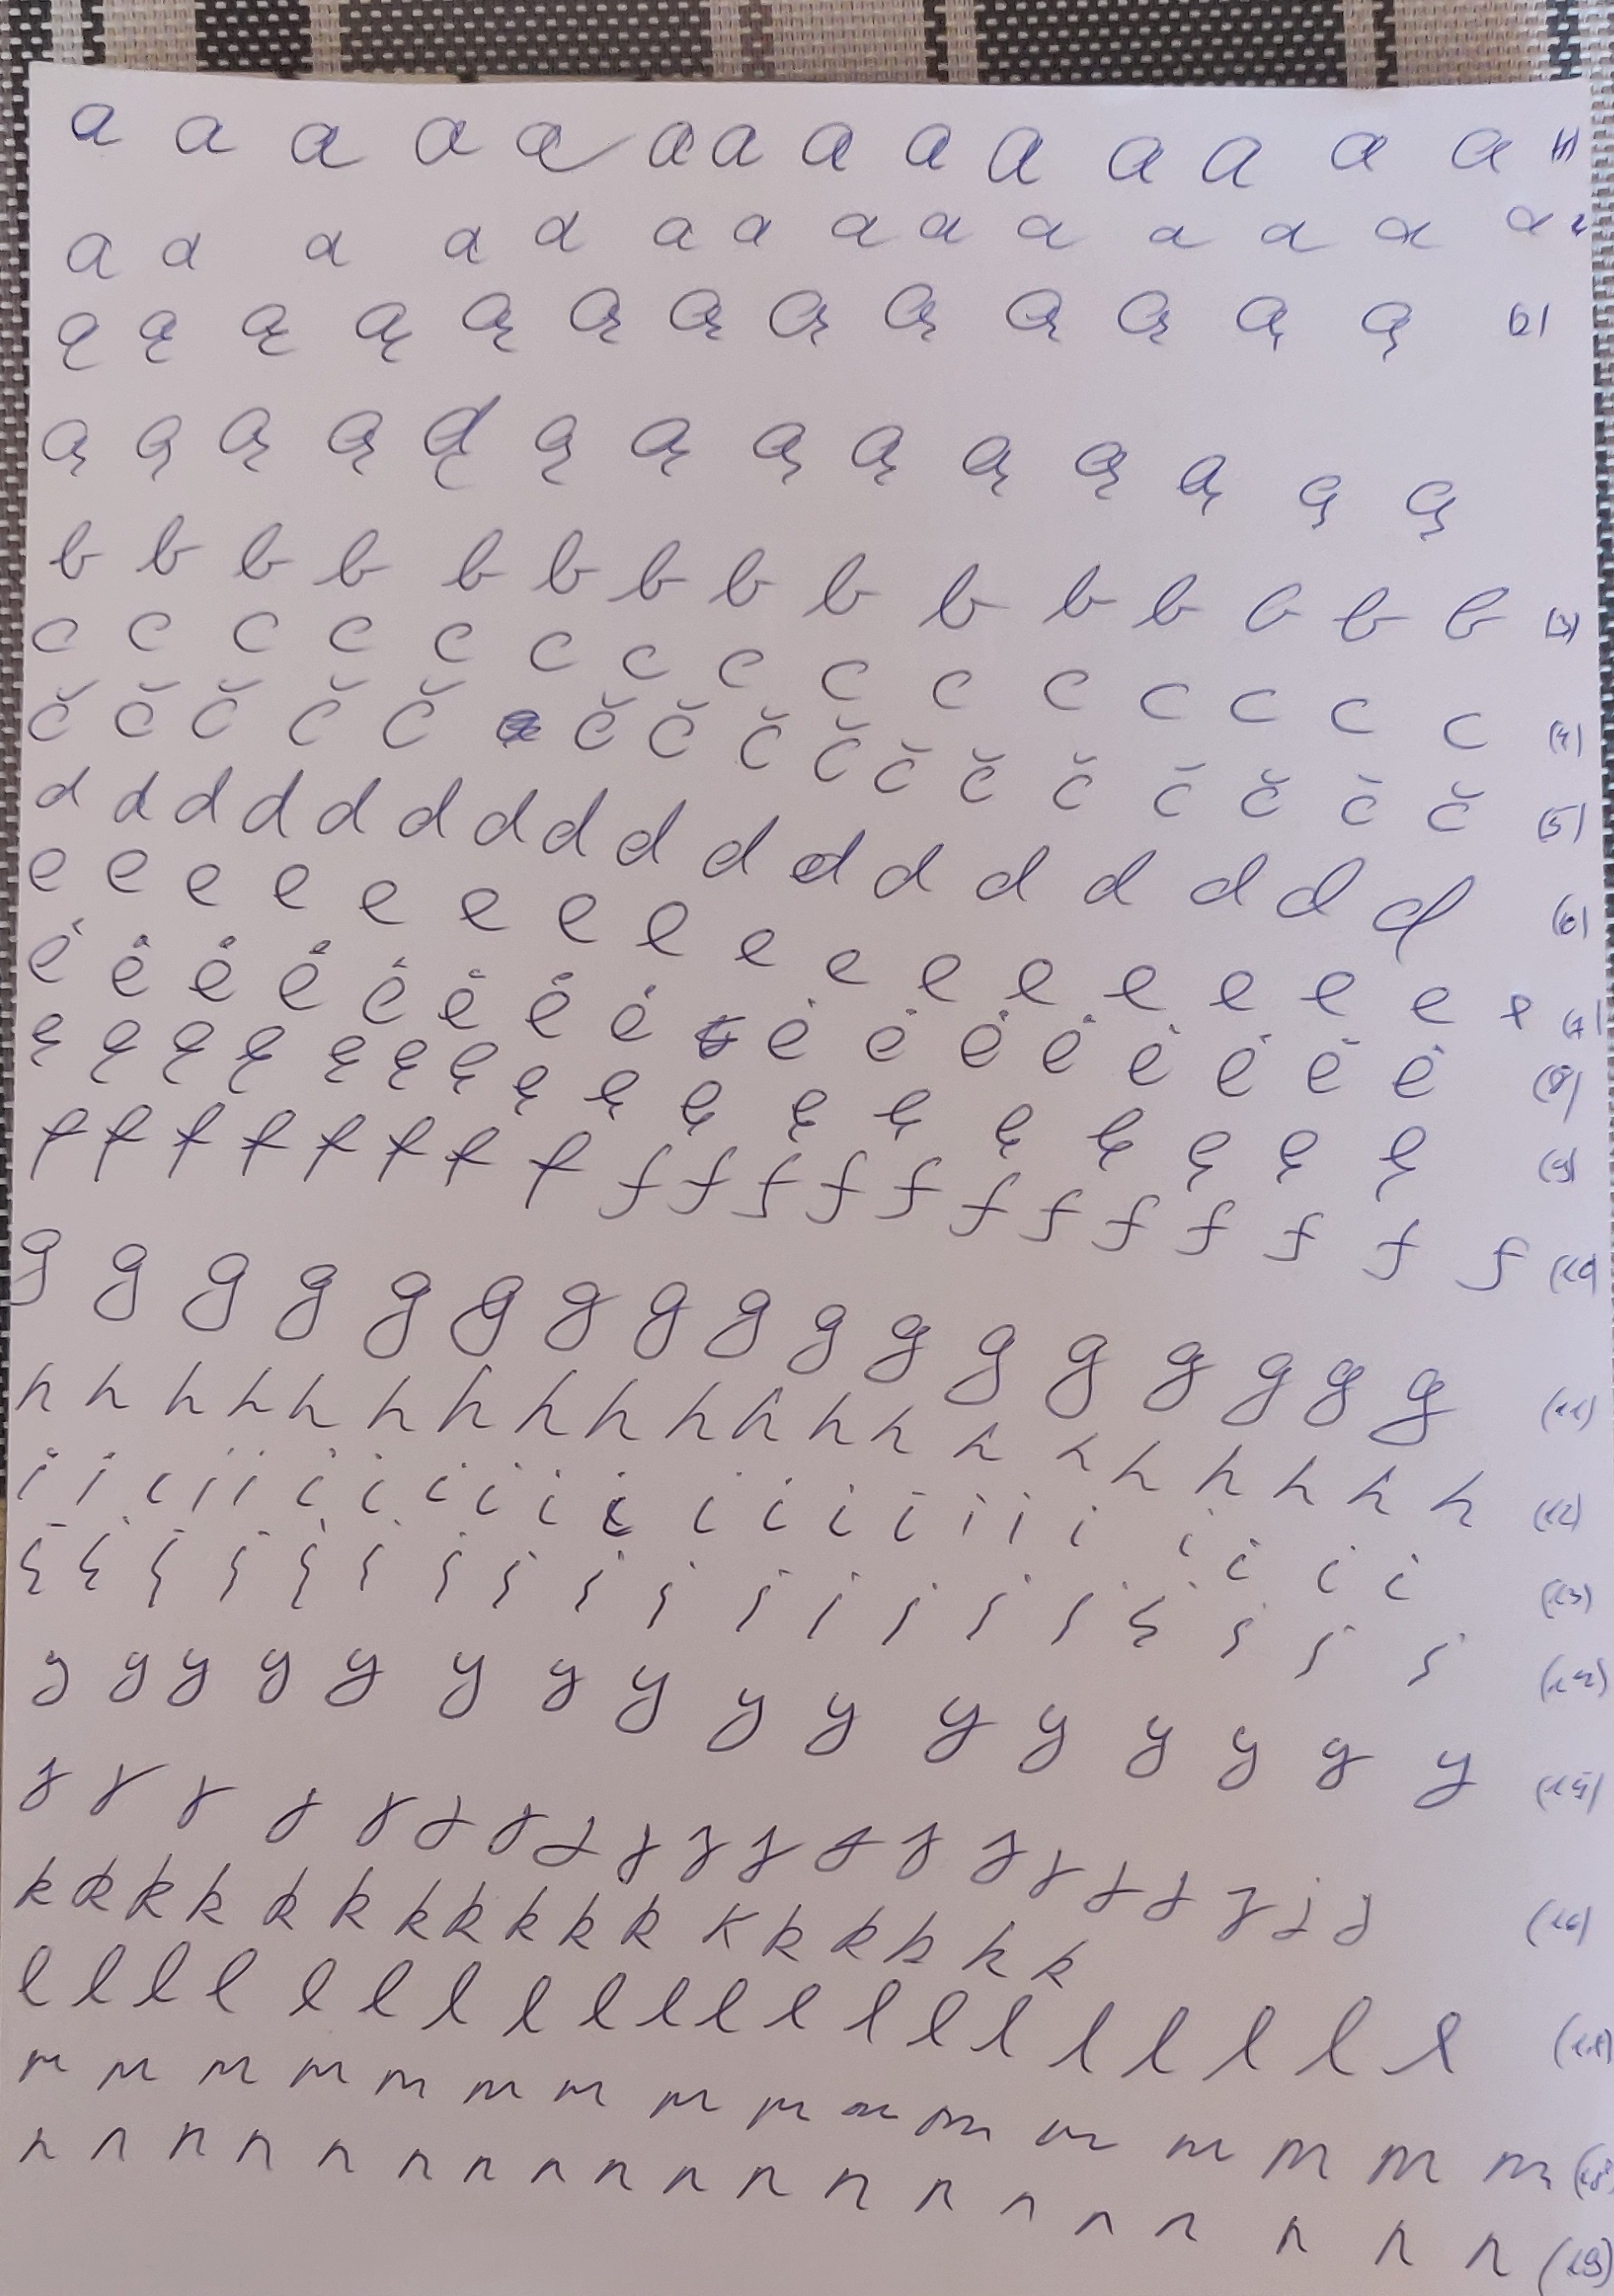a: (508, 101, 634, 176), (52, 77, 136, 159), (1191, 124, 1272, 196), (56, 223, 133, 297), (982, 117, 1048, 192), (1315, 117, 1392, 180), (1439, 120, 1518, 182), (793, 115, 859, 185), (288, 115, 369, 173), (816, 204, 903, 257), (1254, 210, 1340, 262), (1100, 127, 1169, 192), (1369, 208, 1448, 264), (164, 105, 236, 164), (154, 223, 222, 285), (641, 112, 700, 182), (900, 115, 961, 182), (1013, 210, 1093, 258), (416, 107, 479, 166), (531, 210, 606, 258), (1137, 218, 1212, 265), (922, 204, 987, 257), (437, 225, 505, 274), (306, 223, 374, 272), (707, 120, 765, 178), (643, 213, 707, 260), (1495, 201, 1555, 243), (728, 213, 784, 248)
a2: (421, 386, 498, 501), (225, 295, 313, 368), (210, 402, 292, 477), (879, 276, 957, 353), (452, 285, 526, 367), (1390, 470, 1467, 547), (954, 421, 1018, 512), (1066, 428, 1132, 515), (341, 297, 421, 368), (763, 286, 838, 360), (555, 281, 632, 353), (1107, 279, 1181, 353), (997, 281, 1071, 353), (323, 407, 391, 482), (1286, 466, 1354, 541), (129, 410, 190, 491), (844, 414, 903, 496), (1228, 285, 1289, 363), (666, 281, 732, 353), (49, 309, 114, 382), (1354, 293, 1417, 368), (744, 421, 810, 491), (528, 402, 582, 487), (629, 409, 688, 484), (1174, 445, 1228, 527), (37, 410, 100, 480), (131, 311, 185, 368)
b: (912, 557, 1018, 639), (608, 529, 690, 620), (1328, 580, 1418, 651), (798, 552, 884, 627), (1038, 555, 1118, 634), (435, 524, 521, 597), (1127, 564, 1209, 639), (307, 526, 390, 597), (711, 534, 776, 623), (1436, 583, 1516, 650), (38, 517, 108, 590), (131, 512, 201, 585), (224, 517, 295, 587), (535, 527, 599, 602), (1237, 578, 1307, 643)
c: (1032, 660, 1106, 714), (1132, 674, 1202, 730), (1321, 684, 1383, 746), (1436, 704, 1502, 760), (524, 623, 587, 679), (1224, 681, 1287, 733), (816, 653, 875, 707), (122, 606, 178, 662), (430, 618, 486, 674), (222, 608, 285, 656), (922, 663, 985, 711), (718, 639, 770, 695), (618, 636, 669, 690), (327, 611, 383, 660), (33, 613, 87, 660)
c2: (1352, 868, 1481, 952), (1268, 847, 1371, 920), (278, 677, 376, 751), (693, 807, 784, 885), (384, 679, 468, 758), (1184, 845, 1282, 911), (608, 794, 693, 870), (1079, 843, 1170, 911), (23, 674, 107, 747), (232, 765, 313, 840), (786, 821, 868, 894), (868, 835, 948, 906), (639, 697, 716, 770), (805, 716, 875, 794), (543, 780, 613, 857), (971, 845, 1055, 908), (725, 704, 798, 775), (185, 674, 260, 744), (391, 773, 466, 843), (316, 763, 383, 842), (562, 691, 643, 754), (863, 735, 938, 801), (1038, 751, 1116, 814), (1226, 760, 1307, 821), (162, 766, 238, 831), (110, 676, 176, 746), (466, 784, 536, 850), (1420, 780, 1493, 843), (948, 744, 1011, 810), (1146, 756, 1209, 822), (1333, 770, 1396, 829), (107, 766, 171, 822), (30, 765, 96, 815)
e: (1092, 952, 1177, 1013), (1293, 955, 1362, 1028), (349, 870, 416, 939), (627, 894, 693, 964), (552, 878, 613, 952), (718, 917, 791, 978), (1193, 960, 1266, 1018), (259, 856, 321, 922), (905, 950, 971, 1011), (454, 873, 514, 941), (1394, 978, 1467, 1032), (1004, 953, 1066, 1011), (817, 941, 880, 997), (96, 842, 155, 899), (24, 842, 73, 904), (182, 859, 232, 915)
e2: (1205, 1027, 1275, 1114), (180, 929, 250, 1007), (272, 938, 342, 1016), (753, 993, 828, 1065), (854, 1004, 928, 1074), (21, 913, 89, 988), (519, 969, 587, 1044), (358, 953, 419, 1032), (1383, 1041, 1453, 1109), (1032, 1011, 1099, 1081), (601, 980, 667, 1048), (1123, 1020, 1191, 1086), (943, 1006, 1010, 1072), (1303, 1035, 1364, 1103), (105, 929, 159, 999), (433, 969, 491, 1032)
e3: (1364, 1121, 1434, 1201), (1170, 1123, 1240, 1200), (1078, 1103, 1149, 1175), (578, 1065, 652, 1131), (227, 1023, 292, 1098), (84, 1014, 147, 1090), (1265, 1121, 1324, 1194), (162, 1013, 211, 1095), (316, 1027, 377, 1088), (777, 1084, 838, 1145), (872, 1084, 936, 1142), (674, 1070, 728, 1138), (445, 1037, 507, 1096), (383, 1034, 433, 1096), (985, 1098, 1036, 1161), (21, 1007, 65, 1074), (507, 1053, 545, 1117)
f: (505, 1126, 594, 1208), (84, 1098, 157, 1193), (360, 1110, 440, 1196), (590, 1137, 669, 1224), (797, 1151, 872, 1233), (295, 1109, 369, 1191), (672, 1142, 746, 1219), (23, 1103, 91, 1184), (947, 1172, 1029, 1236), (166, 1098, 229, 1182), (238, 1103, 304, 1182), (735, 1154, 807, 1222), (875, 1154, 943, 1226), (1172, 1196, 1247, 1261), (1457, 1231, 1532, 1294), (1258, 1208, 1335, 1266), (1092, 1193, 1163, 1254), (437, 1130, 503, 1189), (1362, 1219, 1425, 1280), (1027, 1186, 1090, 1245)
g: (1361, 1364, 1467, 1446), (941, 1316, 1027, 1411), (363, 1264, 444, 1357), (1041, 1323, 1113, 1423), (1219, 1343, 1303, 1425), (1137, 1334, 1214, 1423), (452, 1269, 528, 1358), (627, 1271, 700, 1362), (178, 1247, 255, 1327), (702, 1280, 777, 1360), (865, 1308, 940, 1388), (547, 1271, 615, 1358), (276, 1257, 342, 1346), (1301, 1353, 1376, 1430), (786, 1299, 856, 1378), (93, 1240, 159, 1322), (12, 1222, 75, 1306)
h: (1338, 1449, 1410, 1524), (508, 1364, 575, 1444), (657, 1376, 730, 1446), (435, 1358, 494, 1444), (1186, 1437, 1251, 1505), (583, 1376, 648, 1442), (1424, 1461, 1481, 1535), (363, 1367, 423, 1437), (1265, 1442, 1322, 1514), (75, 1364, 147, 1418), (804, 1390, 863, 1453), (875, 1397, 931, 1463), (943, 1416, 1013, 1468), (1114, 1435, 1172, 1498), (161, 1353, 210, 1421), (735, 1378, 783, 1446), (225, 1365, 281, 1421), (290, 1372, 341, 1428), (16, 1357, 61, 1416), (1055, 1423, 1102, 1475)
i: (692, 1465, 746, 1538), (180, 1444, 231, 1521), (1301, 1540, 1369, 1594), (594, 1467, 639, 1542), (229, 1449, 278, 1517), (463, 1460, 521, 1517), (1169, 1507, 1226, 1563), (10, 1440, 58, 1507), (70, 1446, 117, 1512), (293, 1449, 346, 1507), (1214, 1531, 1265, 1585), (758, 1472, 798, 1538), (412, 1461, 468, 1509), (893, 1481, 931, 1549), (1382, 1547, 1422, 1612), (819, 1477, 863, 1536), (356, 1447, 391, 1521), (136, 1456, 183, 1510), (531, 1467, 569, 1524), (1001, 1488, 1032, 1552), (1064, 1502, 1099, 1557), (954, 1491, 987, 1543)
i2: (627, 1554, 704, 1636), (718, 1563, 793, 1646), (1403, 1624, 1492, 1694), (206, 1528, 271, 1617), (955, 1570, 1032, 1643), (10, 1514, 68, 1606), (1279, 1619, 1369, 1676), (75, 1517, 138, 1598), (133, 1531, 187, 1620), (281, 1519, 330, 1615), (1045, 1582, 1106, 1657), (872, 1582, 941, 1646), (351, 1521, 405, 1601), (486, 1545, 540, 1624), (1118, 1584, 1177, 1655), (1210, 1594, 1270, 1664), (566, 1554, 639, 1608), (810, 1566, 859, 1646), (424, 1528, 466, 1606)
j: (255, 1776, 328, 1851), (79, 1753, 155, 1823), (1141, 1861, 1198, 1942), (734, 1819, 798, 1891), (959, 1823, 1027, 1889), (526, 1818, 597, 1877), (1209, 1872, 1268, 1943), (168, 1772, 236, 1833), (14, 1746, 68, 1823), (1266, 1877, 1317, 1959), (1018, 1840, 1078, 1901), (349, 1783, 407, 1846), (611, 1823, 662, 1893), (812, 1823, 870, 1884), (1078, 1858, 1132, 1922), (414, 1798, 468, 1858), (480, 1798, 531, 1858), (1331, 1887, 1380, 1949), (891, 1821, 936, 1880), (674, 1823, 713, 1887)
k: (112, 1851, 185, 1929), (327, 1858, 377, 1942), (250, 1866, 307, 1933), (185, 1856, 236, 1931), (73, 1851, 129, 1915), (961, 1917, 1020, 1976), (14, 1853, 68, 1917), (886, 1910, 938, 1975), (388, 1873, 435, 1945), (760, 1901, 814, 1963), (501, 1882, 550, 1943), (830, 1903, 877, 1963), (449, 1884, 491, 1950), (613, 1894, 666, 1947), (700, 1903, 763, 1947), (559, 1889, 597, 1952), (1034, 1942, 1093, 1982)
l: (961, 1987, 1043, 2064), (1294, 1996, 1371, 2078), (1200, 2003, 1273, 2086), (1382, 2010, 1464, 2083), (1116, 2004, 1188, 2088), (1045, 1994, 1118, 2074), (124, 1938, 196, 2017), (419, 1959, 480, 2036), (204, 1947, 267, 2017), (686, 1976, 746, 2050), (901, 1989, 966, 2053), (283, 1950, 334, 2031), (70, 1947, 134, 2010), (840, 1976, 907, 2038), (496, 1973, 550, 2045), (356, 1959, 416, 2018), (763, 1980, 823, 2036), (9, 1942, 58, 2008), (575, 1969, 620, 2034), (639, 1980, 692, 2036)
m: (910, 2100, 1006, 2148), (1366, 2139, 1452, 2184), (1249, 2137, 1336, 2181), (14, 2041, 77, 2088), (96, 2053, 164, 2092), (744, 2095, 814, 2132), (286, 2053, 349, 2090), (645, 2088, 718, 2120), (1158, 2139, 1231, 2170), (376, 2067, 437, 2104), (1034, 2123, 1118, 2149), (1483, 2155, 1549, 2186), (468, 2074, 528, 2109), (196, 2059, 260, 2090), (548, 2074, 608, 2106), (835, 2100, 901, 2120)
n: (318, 2132, 376, 2188), (234, 2123, 285, 2177), (735, 2162, 795, 2207), (79, 2121, 133, 2170), (159, 2120, 208, 2170), (1467, 2233, 1520, 2280), (1066, 2203, 1123, 2242), (819, 2167, 866, 2210), (1371, 2219, 1418, 2263), (594, 2149, 636, 2196), (461, 2151, 505, 2193), (908, 2169, 952, 2210), (994, 2186, 1041, 2219), (533, 2149, 569, 2191), (660, 2158, 704, 2193), (16, 2127, 54, 2165), (1272, 2212, 1308, 2251), (1151, 2209, 1198, 2238), (398, 2146, 435, 2181)
y: (424, 1638, 500, 1729), (1406, 1741, 1492, 1818), (699, 1687, 772, 1762), (917, 1695, 990, 1769), (16, 1641, 82, 1720), (802, 1687, 866, 1765), (1123, 1711, 1188, 1788), (321, 1643, 390, 1711), (610, 1659, 666, 1741), (246, 1638, 307, 1709), (1017, 1692, 1062, 1783), (1210, 1722, 1263, 1797), (531, 1650, 589, 1718), (1314, 1730, 1366, 1800), (105, 1640, 152, 1716), (164, 1641, 217, 1709)
